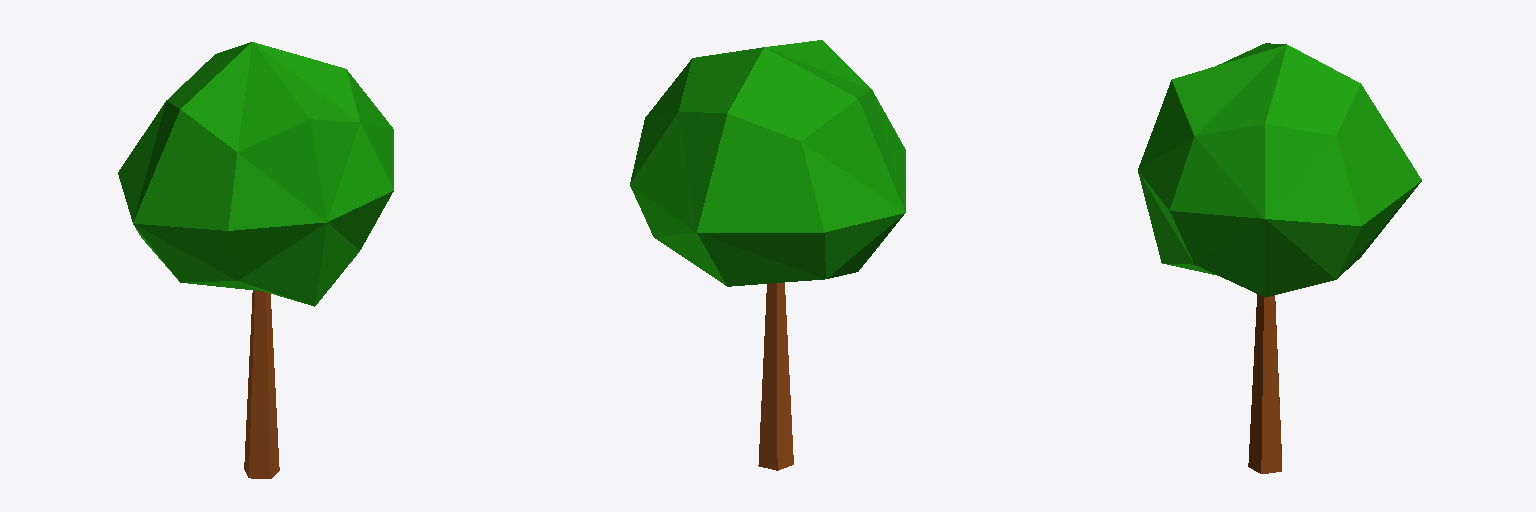
File: tree.obj
3 views of the same model, side by side, from view 1: azimuth 30°, elevation 25°; view 2: azimuth 150°, elevation 25°; view 3: azimuth 270°, elevation 25° (orthographic).
Parts seen in each view (by area): view 1: Cube_Cube.001; view 2: Cube_Cube.001; view 3: Cube_Cube.001.
Part boxes in pixels (x1,y1,x2,y2): Cube_Cube.001: (118, 42, 393, 478); Cube_Cube.001: (630, 40, 905, 470); Cube_Cube.001: (1138, 43, 1421, 473).
Size of the model in its own units: 6.85 by 10.62 by 6.48.